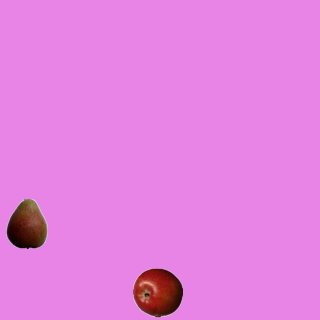Apple Braeburn: (132, 267, 182, 317)
Pear Forelle: (1, 198, 51, 248)
